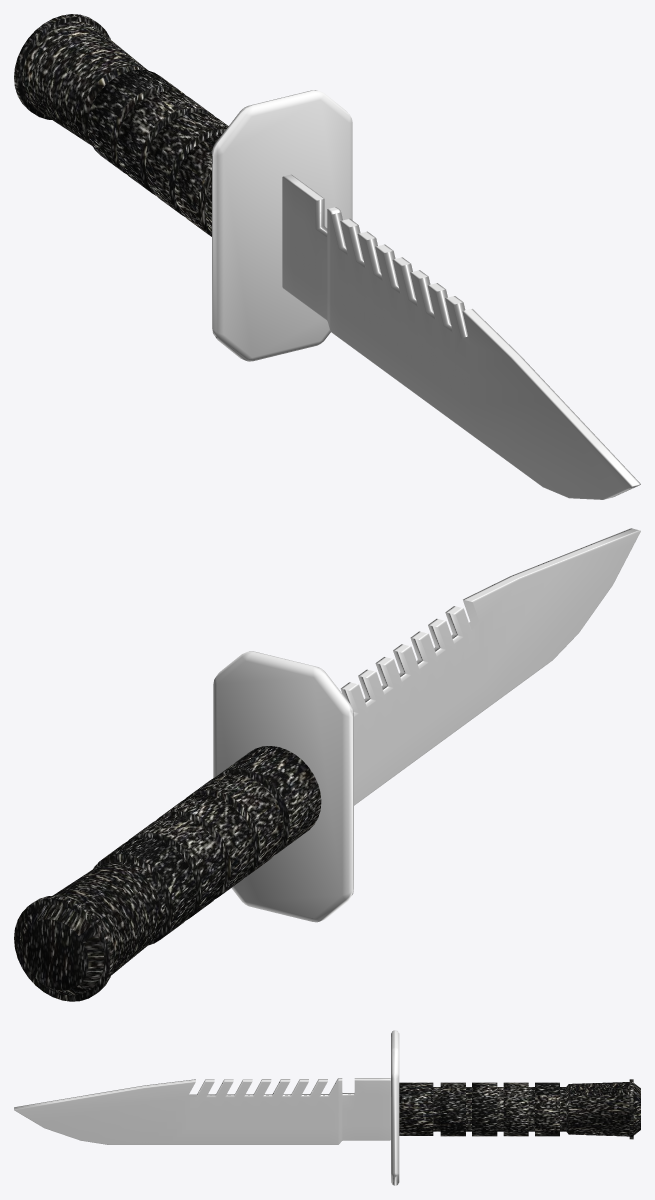
File: faca.319a730c.glb
The picture shows the model from 3 angles, top to bottom: view 1: azimuth 30°, elevation 25°; view 2: azimuth 150°, elevation 25°; view 3: azimuth 270°, elevation 25°; orthographic projection. The views are drawn at different scales.
Parts seen in each view (by area): view 1: Blade_1, Bolster_2, Handle_3; view 2: Handle_3, Blade_1, Bolster_2; view 3: Blade_1, Handle_3, Bolster_2.
Boxes of the visible parts, x1,y1,x2,y2 form: Blade_1: [282, 174, 640, 499]; Bolster_2: [212, 90, 352, 361]; Handle_3: [14, 14, 228, 236]; Handle_3: [14, 746, 321, 1001]; Blade_1: [340, 528, 640, 805]; Bolster_2: [213, 651, 353, 922]; Blade_1: [14, 1078, 390, 1144]; Handle_3: [399, 1079, 640, 1139]; Bolster_2: [391, 1030, 399, 1185].
Bounding box in the file's own units: 0.6682 × 1.17 × 4.84.
Materials: 3 (1 with a texture image).
